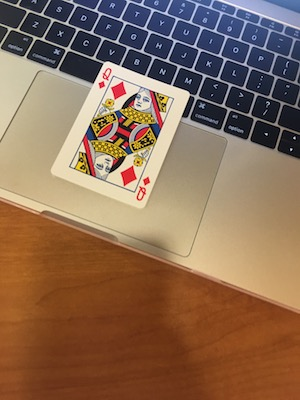QueenOfDiamonds: (48, 58, 191, 210)
